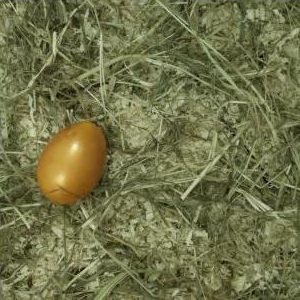egg: (38, 121, 108, 205)
